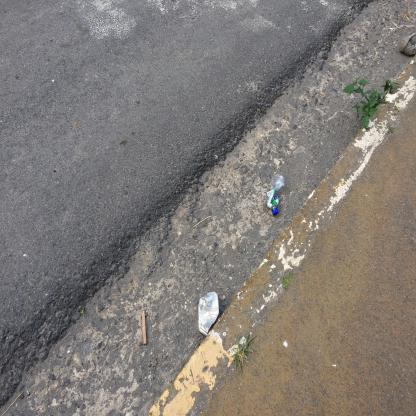metal: (199, 293, 220, 338)
plastik: (267, 175, 285, 216)
